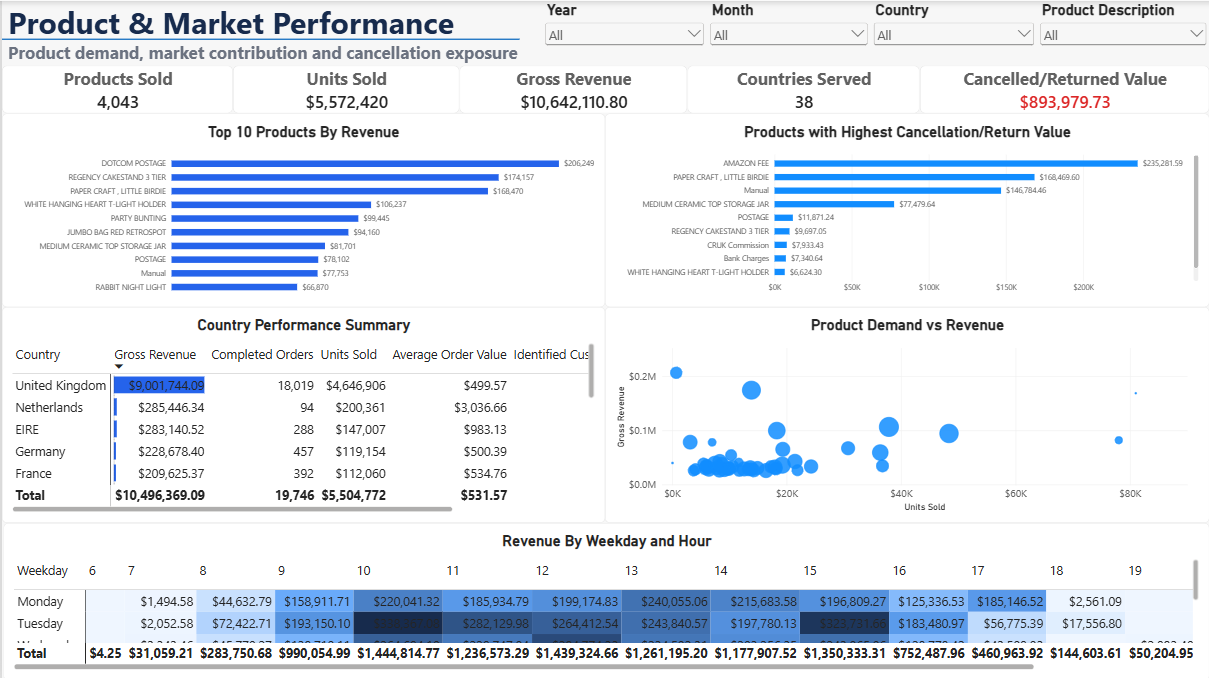

This screenshot's page, from the dashboard's own definition file:
{"tool":"powerbi","page":{"name":"Product & Market Performance","canvas":[1920,1080],"ordinal":1},"visuals":[{"type":"textbox","box":[9.5,0,823.1,121.7],"z":0},{"type":"shape","box":[0,0,823.1,121.7],"z":1},{"type":"slicer","fields":{"Values":["DimDate.Year"]},"box":[858.9,0,262.5,76.3],"z":2},{"type":"slicer","fields":{"Values":["DimDate.Month"]},"box":[1121.4,0,260.1,76.3],"z":3},{"type":"slicer","fields":{"Values":["DimCountry.country"]},"box":[1381.4,0,264.8,76.3],"z":4},{"type":"slicer","fields":{"Values":["DimProduct.product_description"]},"box":[1646.3,0,274.4,76.3],"z":5},{"type":"cardVisual","fields":{"Data":["Measures (2).Gross Revenue"]},"box":[727.7,102.6,362.7,76.3],"z":11},{"type":"cardVisual","fields":{"Data":["Measures (2).Products Sold"]},"box":[0,102.6,367.4,76.3],"z":12},{"type":"cardVisual","fields":{"Data":["Measures (2).Units Sold"]},"box":[367.4,102.6,360.3,76.3],"z":13},{"type":"cardVisual","fields":{"Data":["Measures (2).Countries Served"]},"box":[1090.4,102.6,369.8,76.3],"z":14},{"type":"cardVisual","fields":{"Data":["Measures (2).Cancelled/Returned Value"]},"box":[1460.2,102.6,460.5,76.3],"z":15},{"type":"clusteredBarChart","title":"Top 10 Products By Revenue","fields":{"Category":["DimProduct.product_description"],"Y":["Measures (2).Gross Revenue"]},"box":[0,178.9,959.1,307.8],"z":16},{"type":"scatterChart","title":"Product Demand vs Revenue","fields":{"Category":["DimProduct.product_description"],"Size":["Measures (2).Completed Orders"],"X":["Measures (2).Units Sold"],"Y":["Measures (2).Gross Revenue"]},"box":[959.1,486.7,961.5,343.6],"z":17},{"type":"pivotTable","title":"Country Performance Summary","fields":{"Rows":["DimCountry.country"],"Values":["Measures (2).Gross Revenue","Measures (2).Completed Orders","Measures (2).Units Sold","Measures (2).Average Order Value","Measures (2).Identified Customers","Measures (2).Cancellation Rate"]},"box":[0,486.7,959.1,343.6],"z":18},{"type":"pivotTable","title":"Revenue By Weekday and Hour","fields":{"Columns":["FactTransactions.invoice_hour"],"Rows":["DimDate.Weekday"],"Values":["Measures (2).Gross Revenue"]},"box":[2.4,830.3,1918.3,250.5],"z":19},{"type":"clusteredBarChart","title":"Products with Highest Cancellation/Return Value","fields":{"Category":["DimProduct.product_description"],"Y":["Measures (2).Cancelled/Returned Value"]},"box":[959.1,178.9,961.5,307.8],"z":20}]}

Visuals, with their boxes in screenshot pixels (x1, y1, x2, y2), scaled from the page's 1920x1080 canvas onto the 1209x678 screenshot:
textbox: (6, 0, 524, 76)
shape: (0, 0, 518, 76)
slicer - DimDate.Year: (541, 0, 706, 48)
slicer - DimDate.Month: (706, 0, 870, 48)
slicer - DimCountry.country: (870, 0, 1037, 48)
slicer - DimProduct.product_description: (1037, 0, 1208, 48)
cardVisual - Measures (2).Gross Revenue: (458, 64, 687, 112)
cardVisual - Measures (2).Products Sold: (0, 64, 231, 112)
cardVisual - Measures (2).Units Sold: (231, 64, 458, 112)
cardVisual - Measures (2).Countries Served: (687, 64, 919, 112)
cardVisual - Measures (2).Cancelled/Returned Value: (919, 64, 1208, 112)
"Top 10 Products By Revenue" clusteredBarChart: (0, 112, 604, 306)
"Product Demand vs Revenue" scatterChart: (604, 306, 1208, 521)
"Country Performance Summary" pivotTable: (0, 306, 604, 521)
"Revenue By Weekday and Hour" pivotTable: (2, 521, 1208, 677)
"Products with Highest Cancellation/Return Value" clusteredBarChart: (604, 112, 1208, 306)
